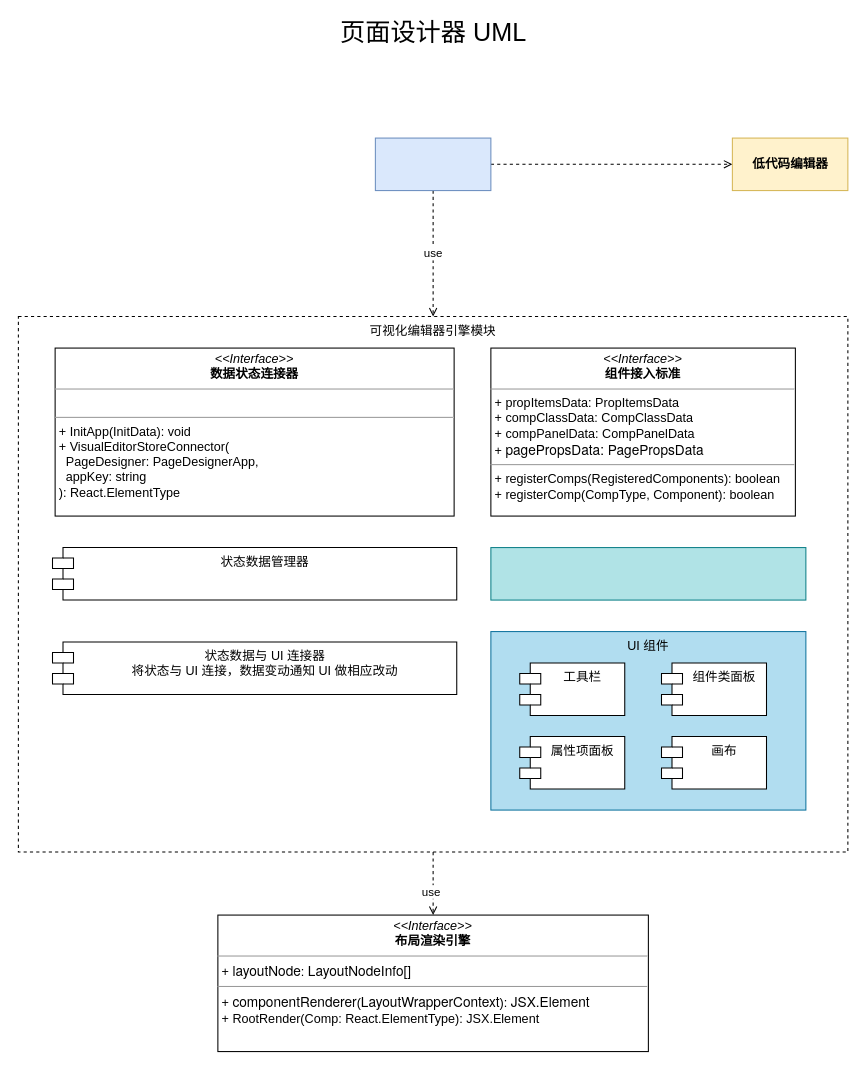
Image size: 866x1070. Some labels were removed from this diagram. Here are the shapes that lost their labels. From the top down, the centre of each, then its label:
point (432, 164): 页面设计器
point (648, 573): 主题样式
